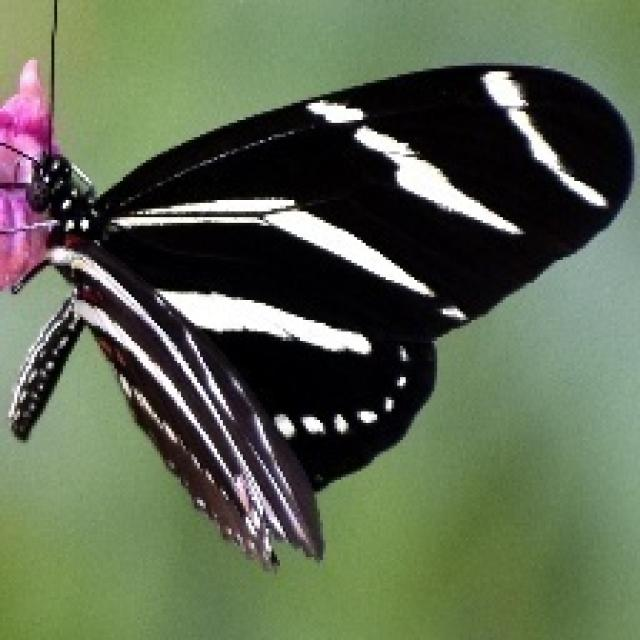butterfly: (0, 0, 634, 571)
